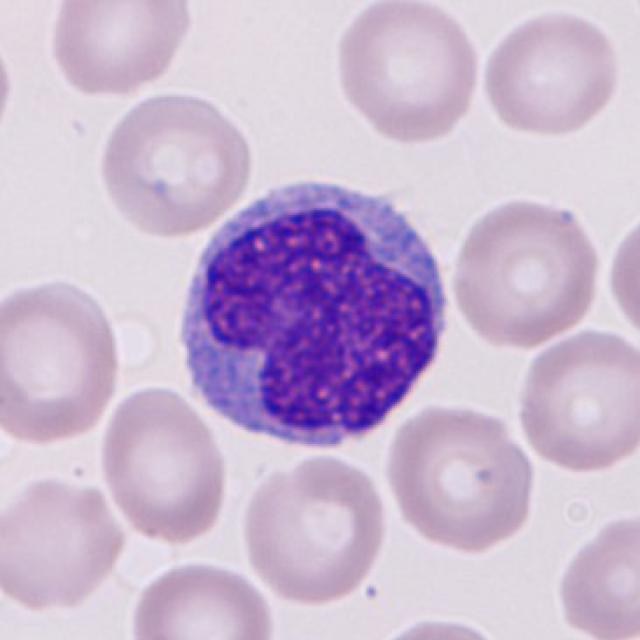Monocyte: (166, 165, 464, 461)
RBC: (446, 193, 605, 352), (382, 397, 540, 557), (236, 449, 394, 609), (93, 87, 257, 239), (94, 382, 234, 548), (330, 0, 484, 146), (0, 272, 126, 450), (476, 4, 626, 140), (512, 324, 638, 477), (0, 472, 131, 614), (44, 0, 196, 101), (124, 555, 282, 640), (551, 506, 638, 640), (603, 205, 640, 345), (366, 612, 514, 640), (0, 26, 17, 149)
